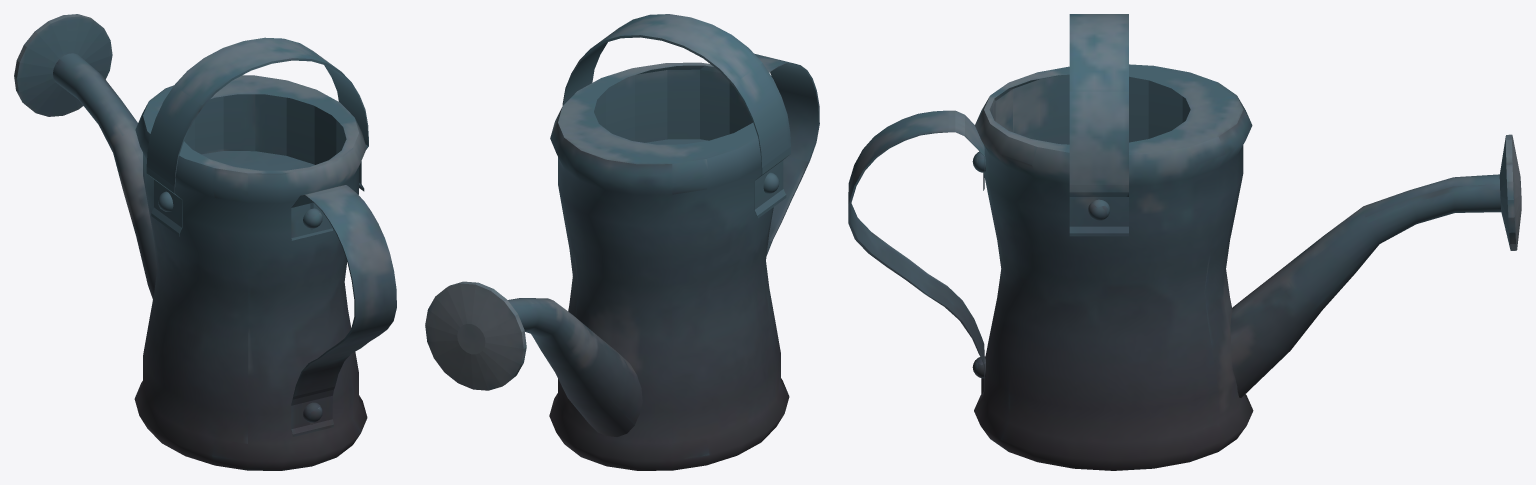
File: Msh_WateringCan_Env.fbx
The picture shows the model from 3 angles, left to right: view 1: azimuth 30°, elevation 25°; view 2: azimuth 150°, elevation 25°; view 3: azimuth 270°, elevation 25°; orthographic projection. The views are drawn at different scales.
Visible parts, largest first — view 1: Watering_can1; view 2: Watering_can1; view 3: Watering_can1.
Part boxes in pixels (box(x1,y1,x2,y2)): Watering_can1: box(14, 14, 396, 470); Watering_can1: box(425, 14, 819, 470); Watering_can1: box(848, 14, 1521, 470).
Size of the model in its own units: 4.88 by 8.86 by 13.58.
